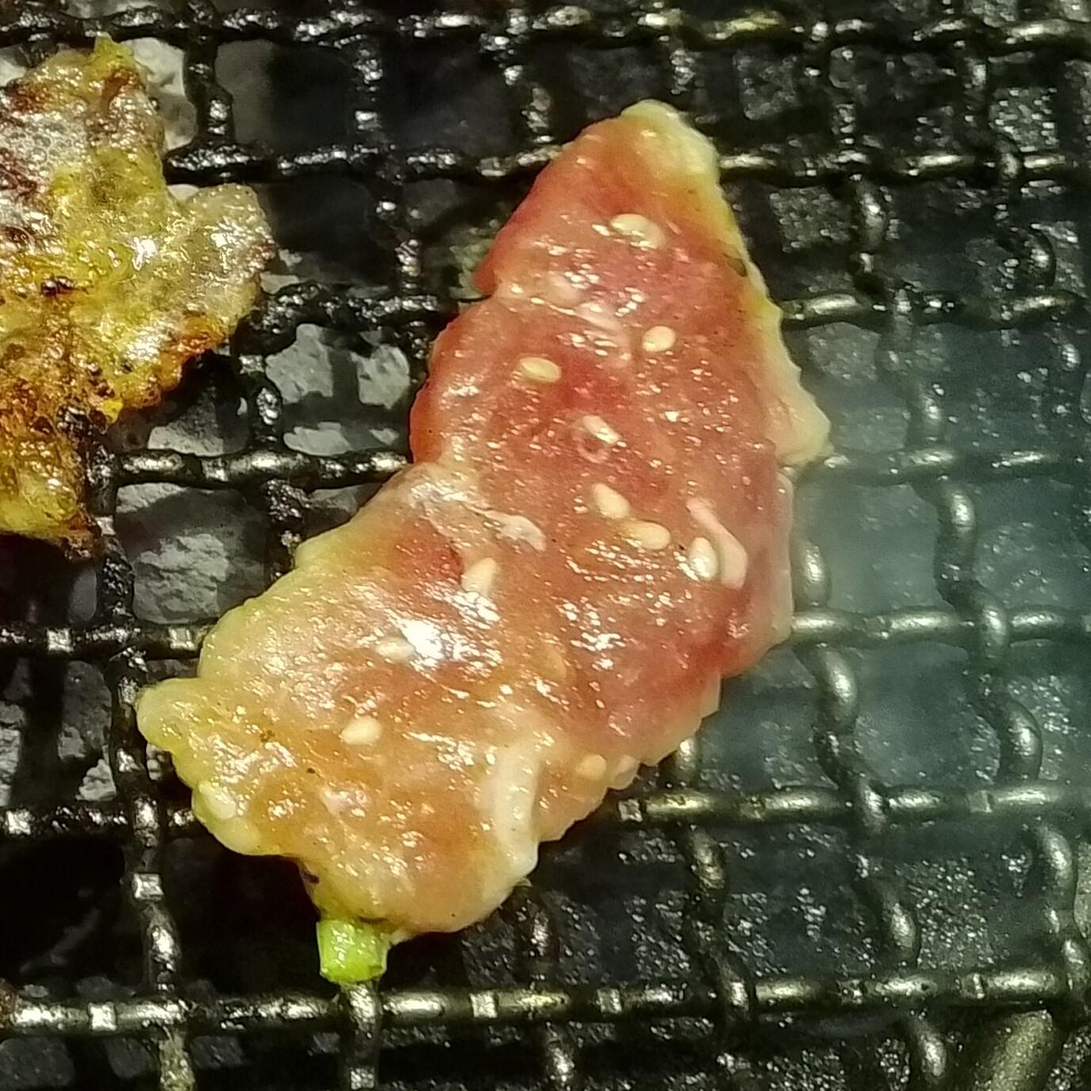Overcooked: (0, 27, 275, 565)
Undercooked: (132, 102, 830, 986)
